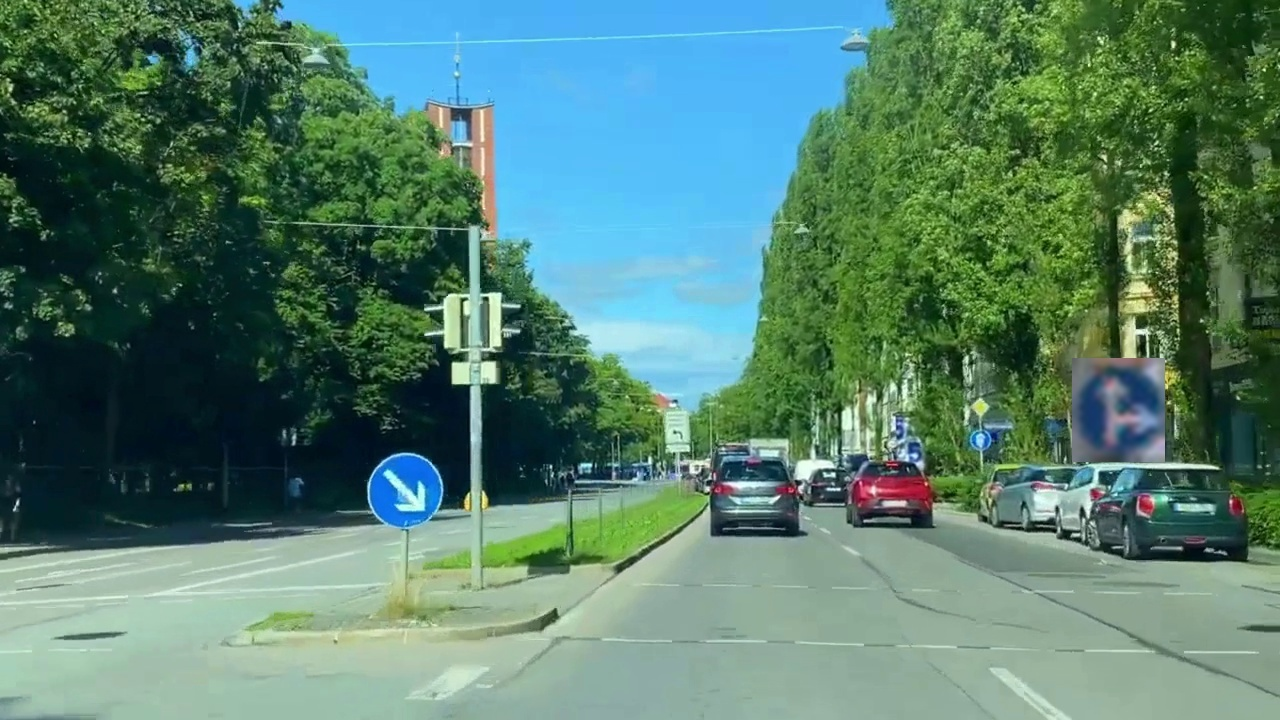Straight/right: (1072, 358, 1165, 462)
